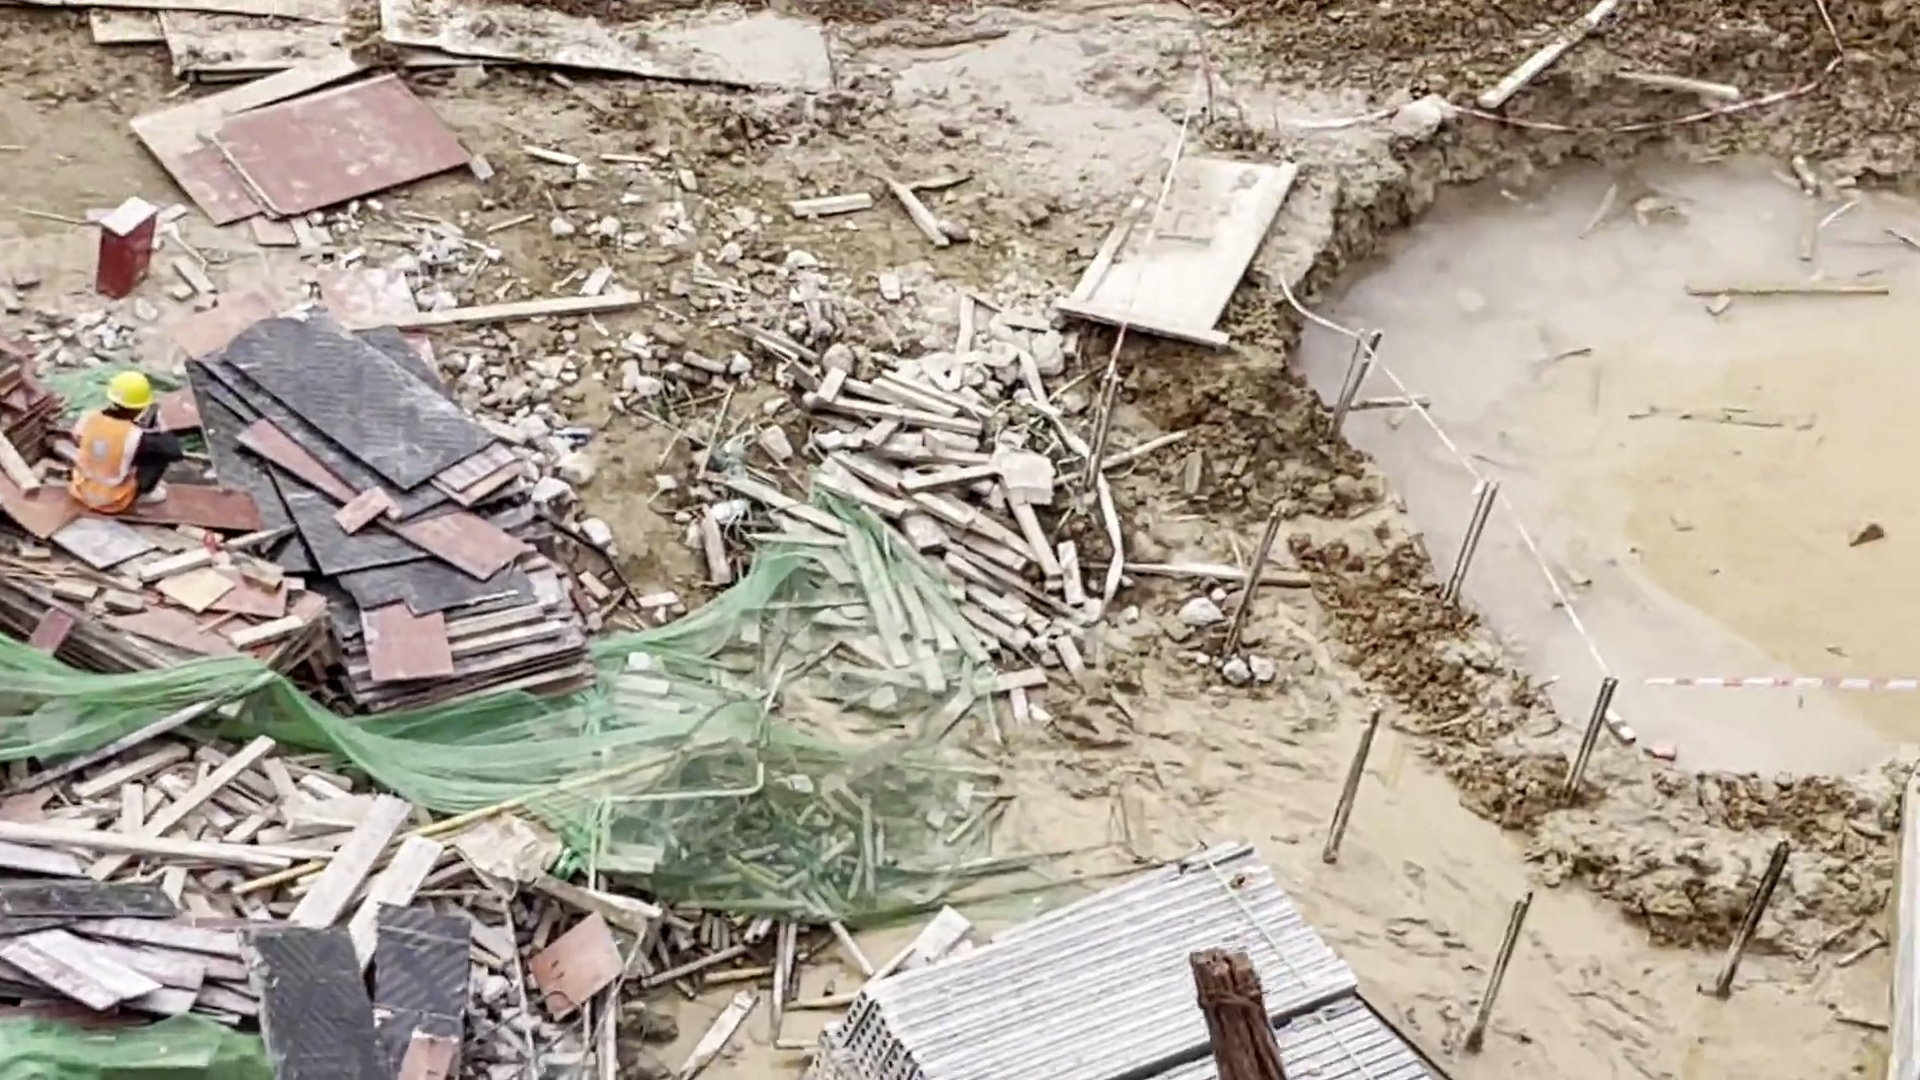helmet: (100, 371, 157, 412)
person: (70, 369, 180, 508)
vest: (70, 403, 146, 509)
